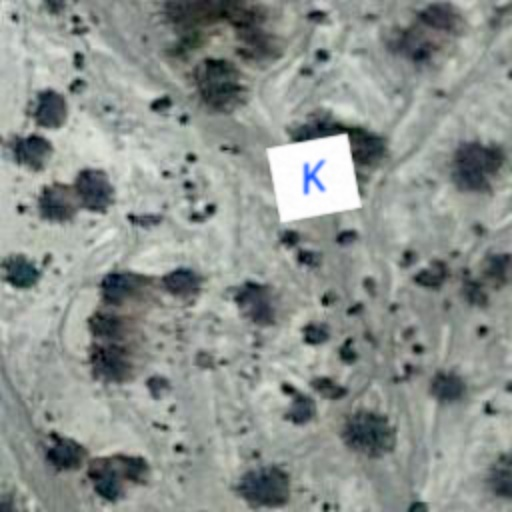rectangle: (264, 128, 364, 228)
